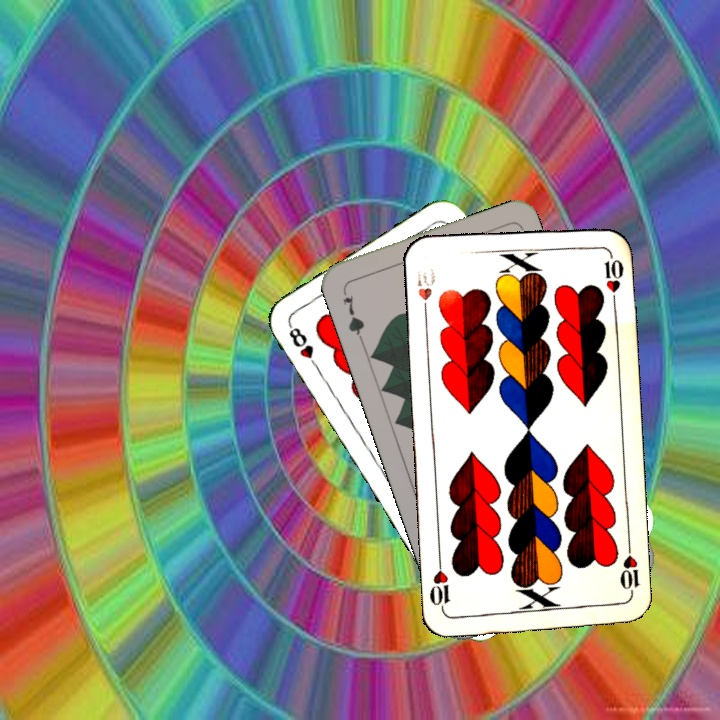G7: (338, 285, 367, 343)
H10: (615, 541, 642, 600), (413, 265, 438, 320)
H8: (284, 320, 322, 373)
